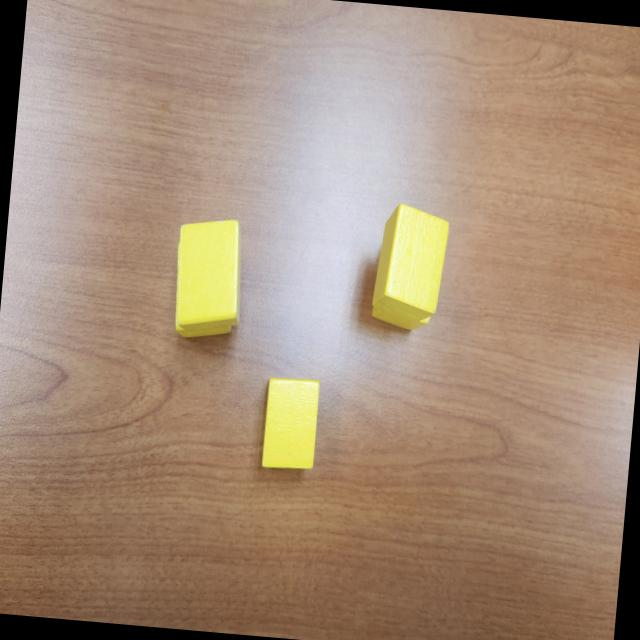yellow: (371, 202, 452, 324), (172, 215, 250, 332), (170, 250, 240, 344), (370, 242, 438, 334), (260, 376, 322, 471)
